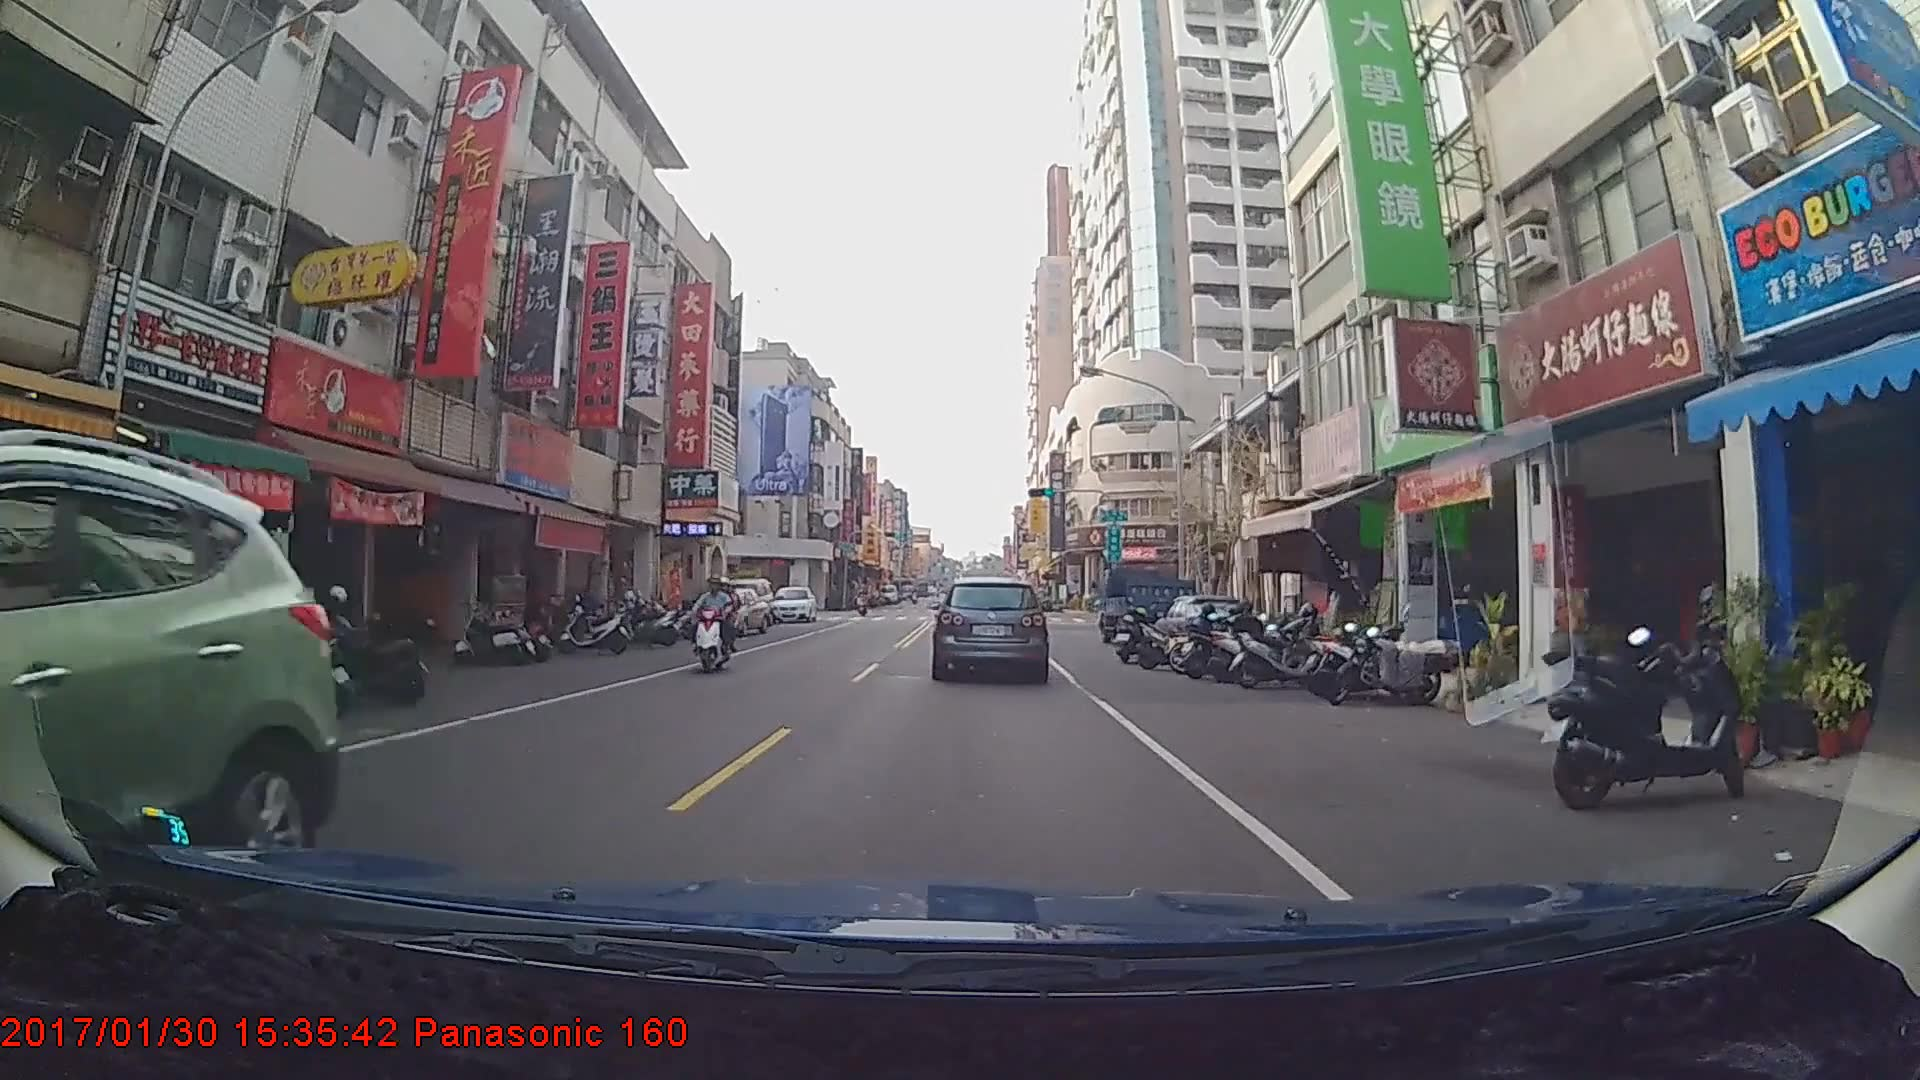rider: (688, 573, 745, 676)
vehicle: (0, 448, 327, 908), (934, 575, 1046, 679), (1095, 563, 1200, 646), (686, 585, 769, 637), (767, 586, 816, 627)
